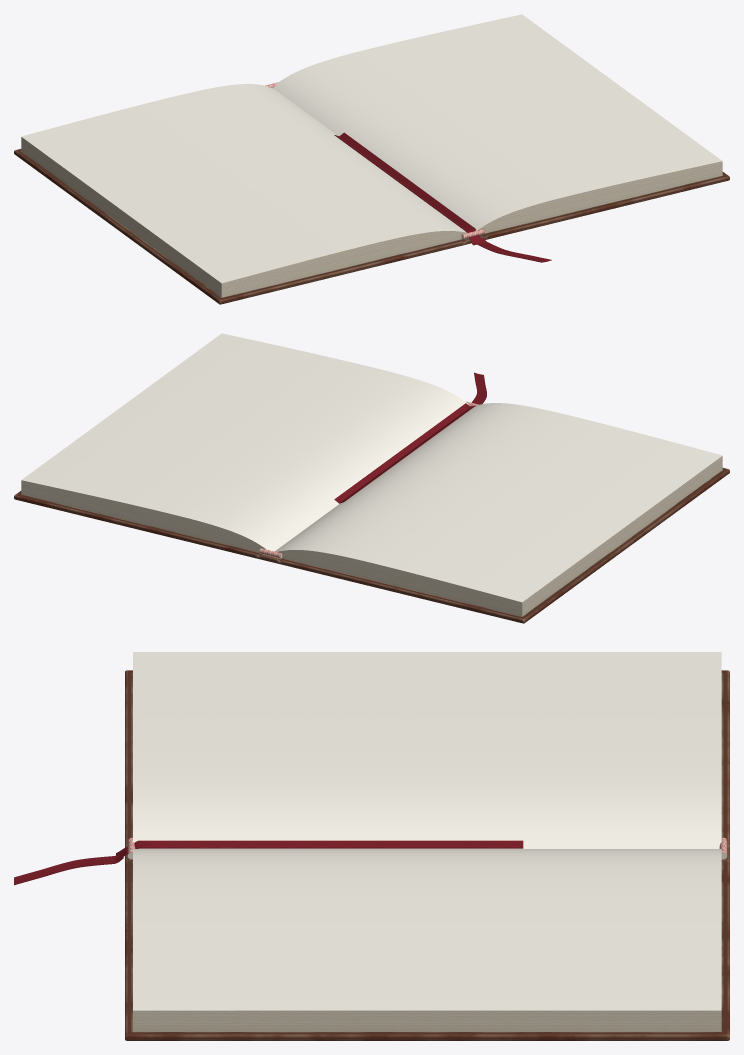
File: corner_notebook.glb
The picture shows the model from 3 angles, top to bottom: view 1: azimuth 30°, elevation 25°; view 2: azimuth 150°, elevation 25°; view 3: azimuth 270°, elevation 25°; orthographic projection. The views are drawn at different scales.
Visible parts, largest first — view 1: NotebookPages, NotebookCover; view 2: NotebookPages, NotebookCover; view 3: NotebookPages, NotebookCover.
Part boxes in pixels (<box>): NotebookPages: <box>21,14,722,283</box>; NotebookCover: <box>14,82,729,304</box>; NotebookPages: <box>21,333,722,602</box>; NotebookCover: <box>14,372,729,623</box>; NotebookPages: <box>133,652,721,1010</box>; NotebookCover: <box>14,670,729,1040</box>.
Size of the model in its own units: 0.316 by 0.0127 by 0.2615.
Materials: 2 (1 with a texture image).
